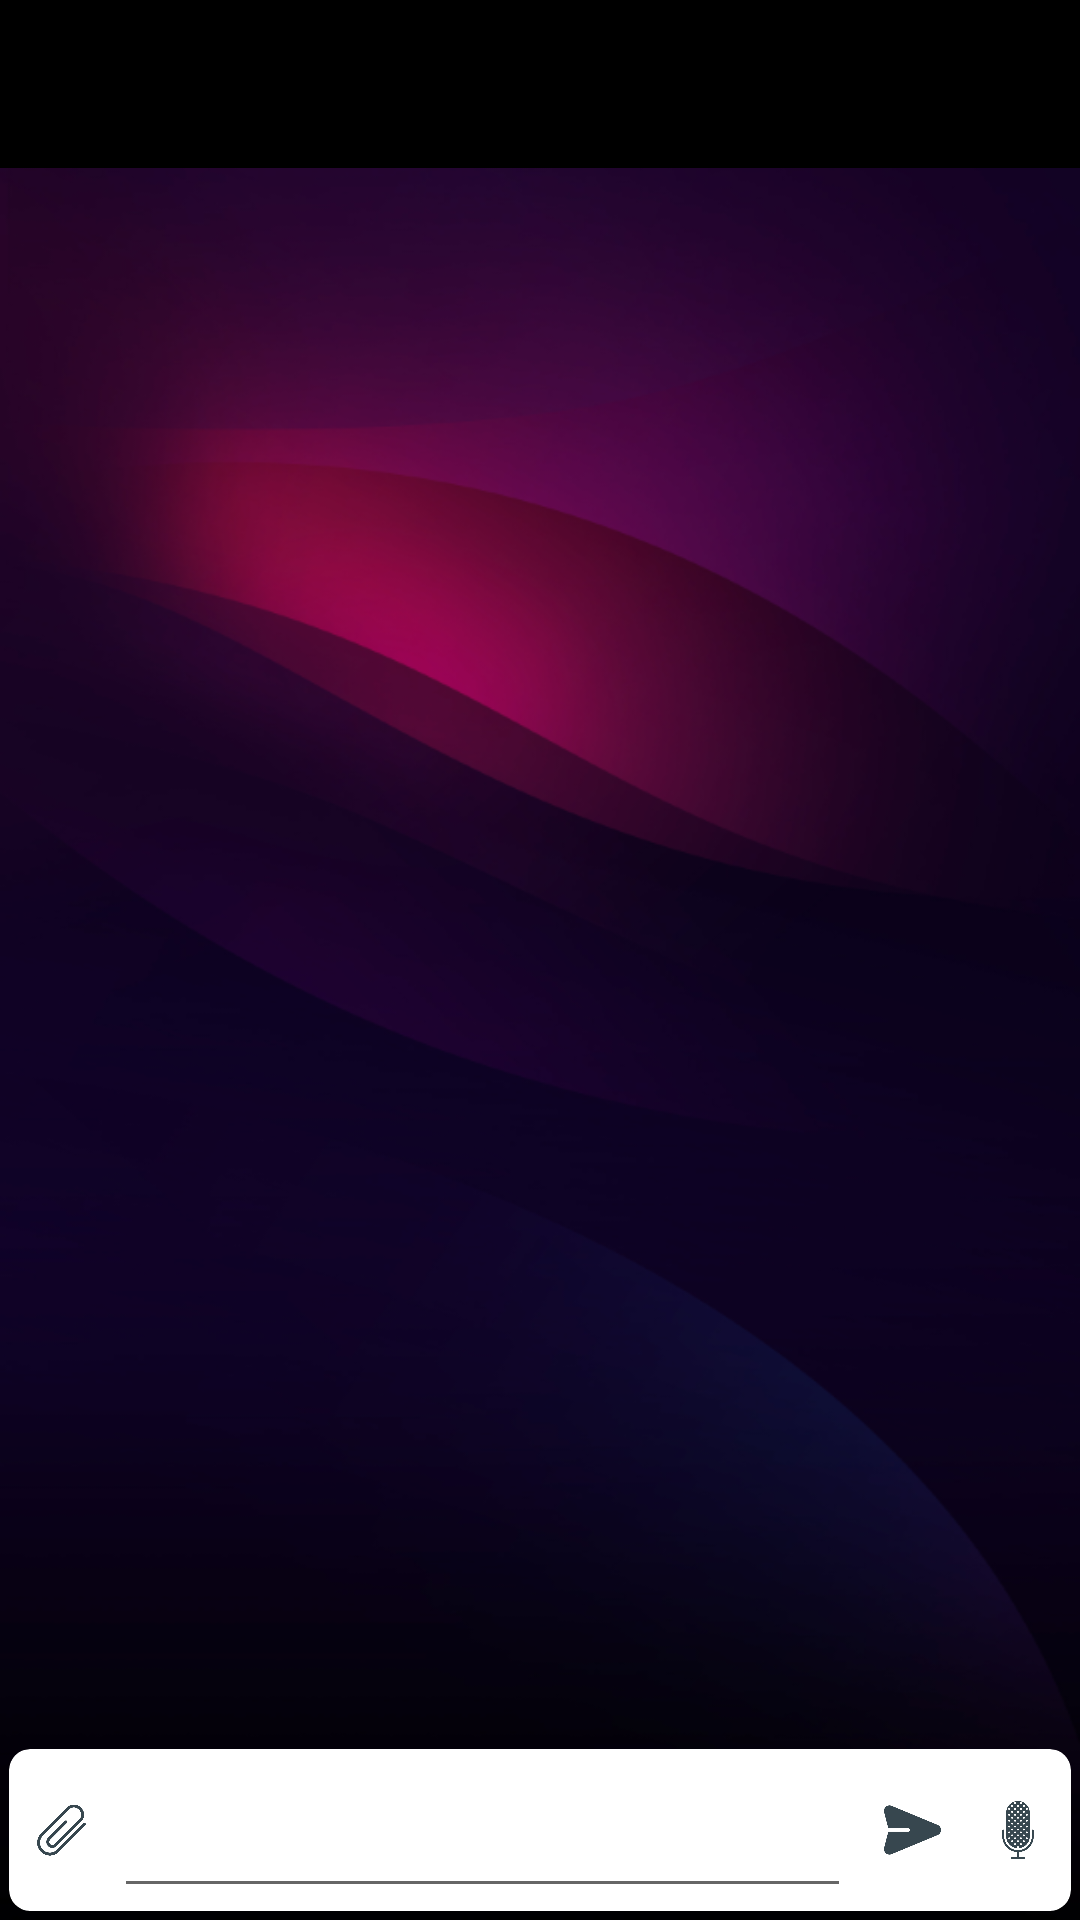

Icons on this 1080*1920 Android screen, each with its box as (x1, y1, x2, y2):
Enviar: (884, 1805, 941, 1855)
Micrófono: (965, 1749, 1071, 1911)
Multimedia: (9, 1749, 114, 1911)
